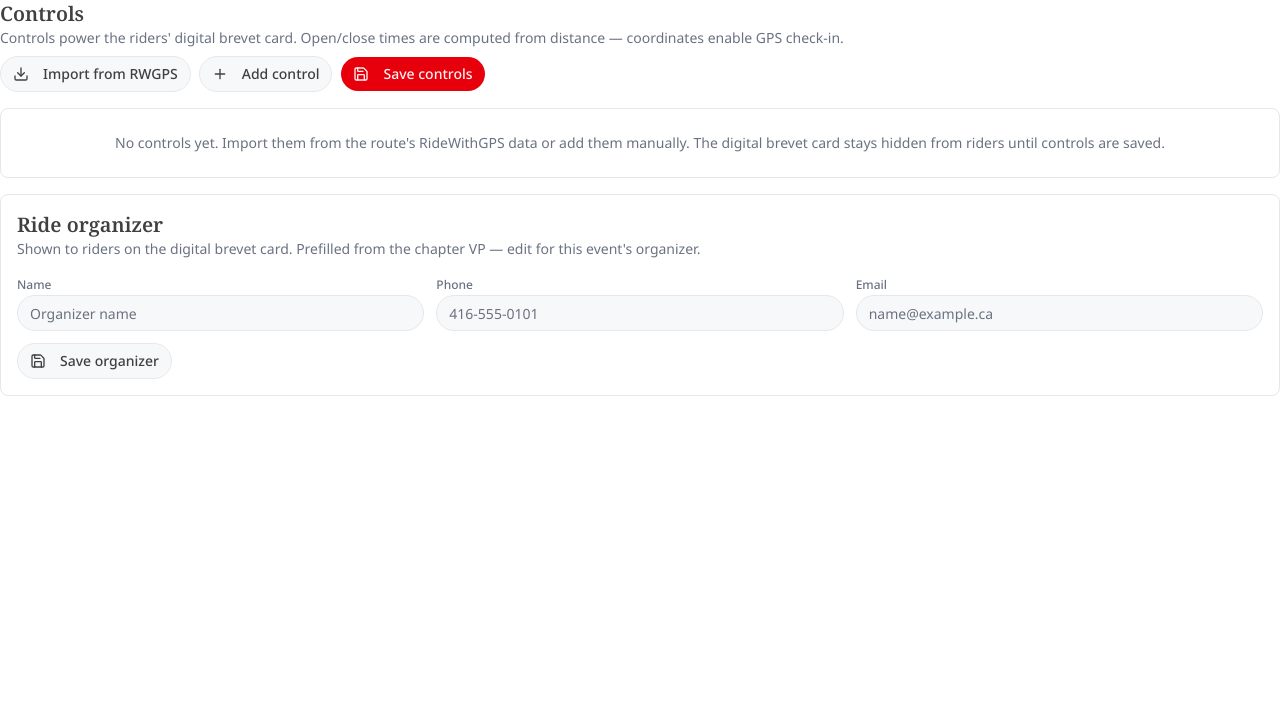
EventControlsManager collection import › opens the leg dialog with all legs checked and imports the selected subset
Click the button "Import from RWGPS" at (95, 74), box [0,56,191,92]
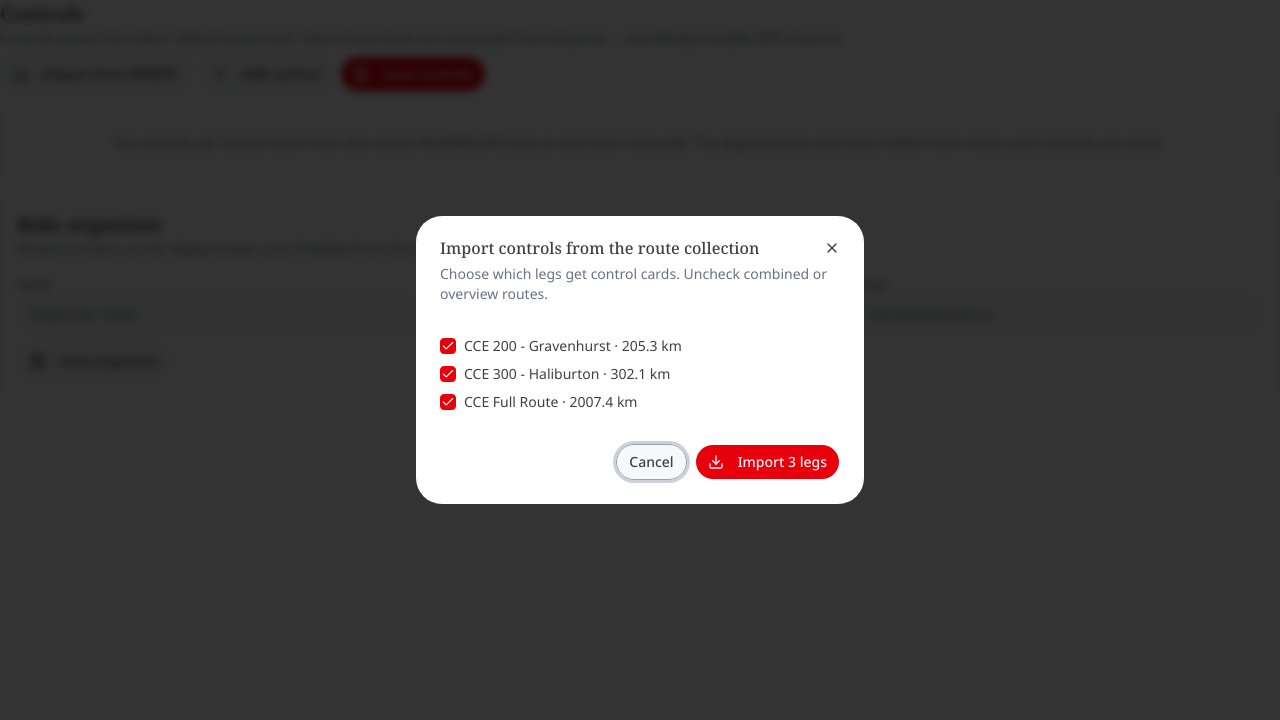
Expected: the number of checkboxes is 3
# Uncheck the combined route, then import the remaining two legs.
Click the checkbox named "CCE Full Route" next to "CCE Full Route" at (448, 402), box [440,394,456,410]
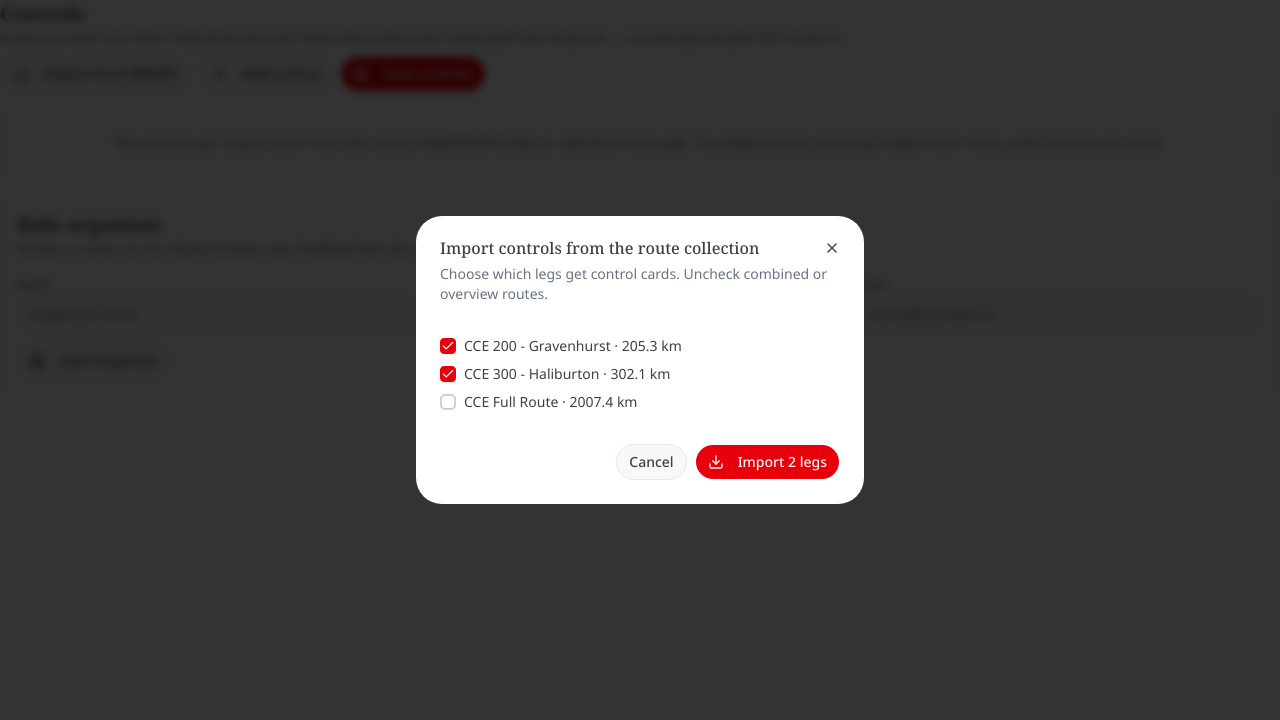
Click the button "Import 2 legs" at (767, 462), box [695,444,840,480]
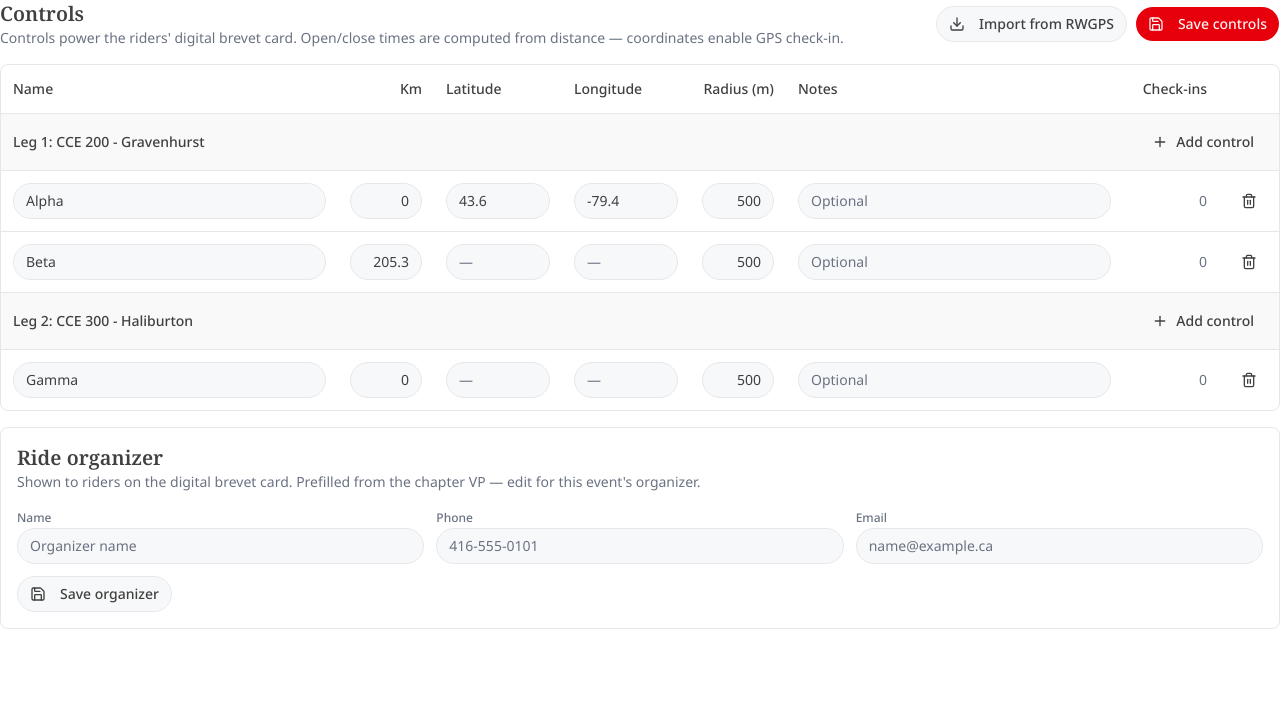
Expected: the text "Leg 1: CCE 200 - Gravenhurst" is shown, [13,132,205,152]
Expected: the text "Leg 2: CCE 300 - Haliburton" is shown, [13,310,193,330]
